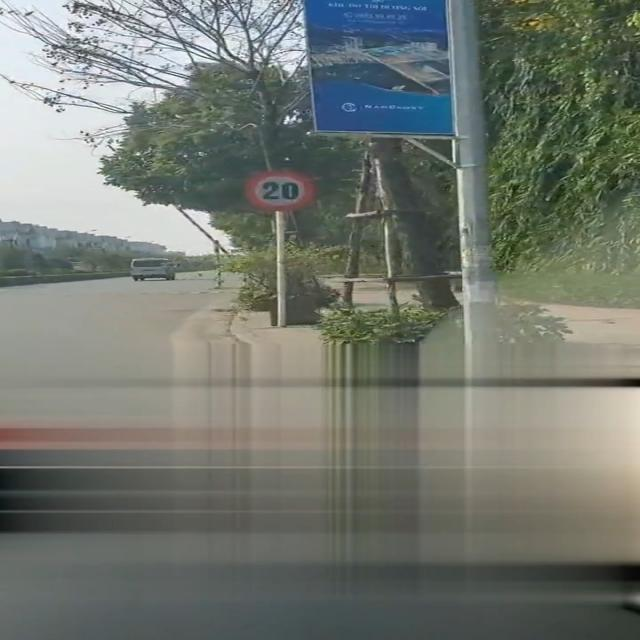127-toc-do-toi-da-20: (245, 172, 315, 212)
